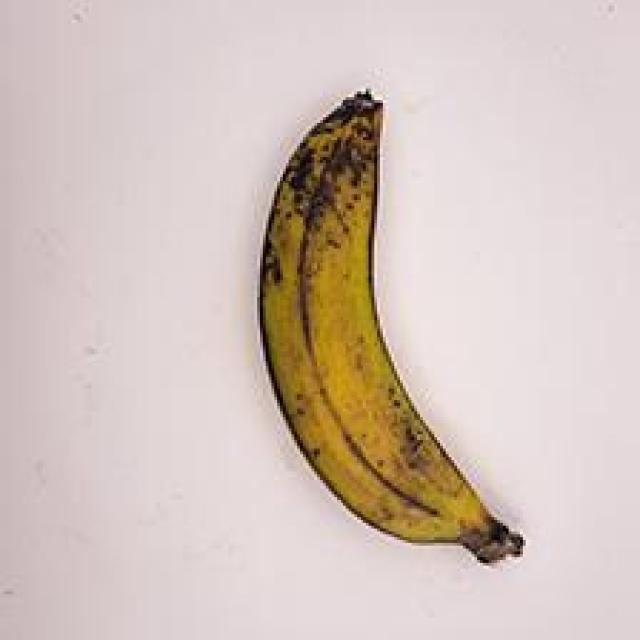Overripe: (199, 68, 542, 578)
